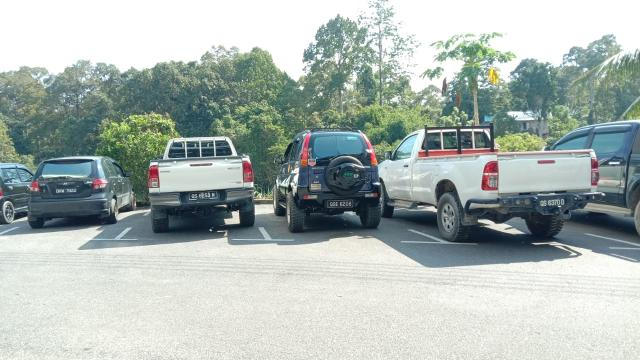License_Plate: (190, 193, 219, 202), (541, 200, 567, 209), (330, 201, 355, 209), (53, 189, 82, 195)
car: (380, 128, 603, 242), (273, 130, 390, 237), (148, 135, 259, 233), (27, 156, 136, 231)
